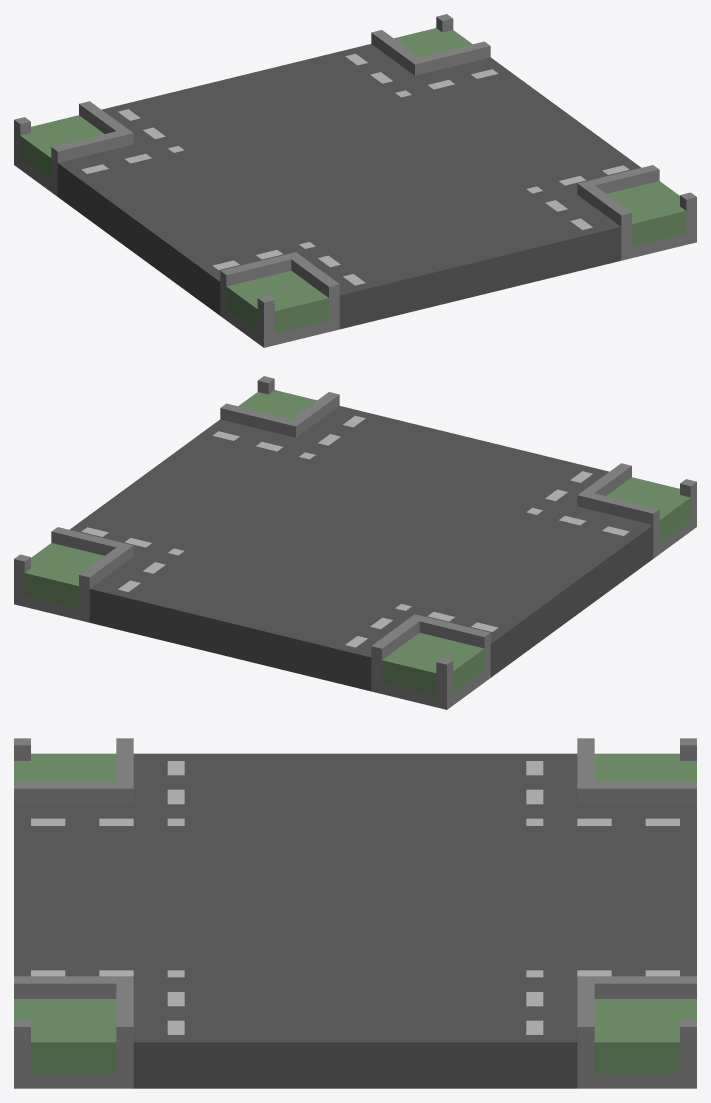
File: RoadX.vox.obj
3 renders of one model, top to bottom at view 1: azimuth 30°, elevation 25°; view 2: azimuth 150°, elevation 25°; view 3: azimuth 270°, elevation 25°, orthographic. The views are drawn at different scales.
Bounding box in the file's own units: 4 × 0.4 × 4.
Materials: 1 (1 with a texture image).
